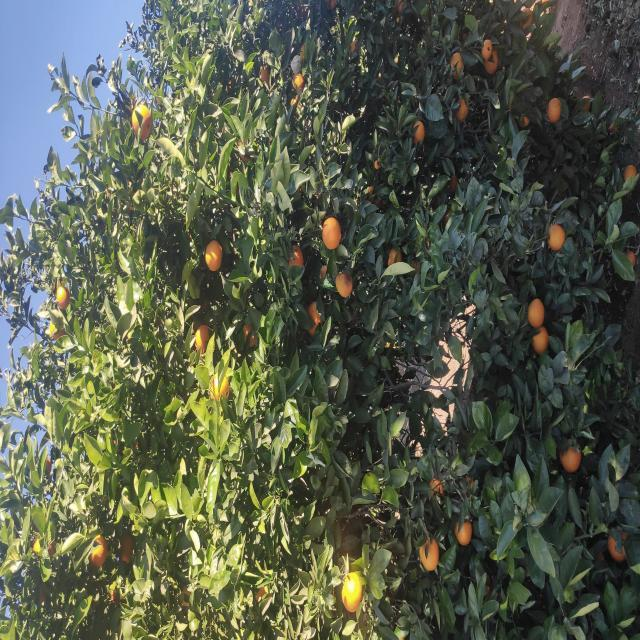Jeruk Sudah Matang: (28, 342, 69, 362), (80, 606, 112, 628), (501, 132, 536, 152), (391, 321, 424, 342), (70, 420, 104, 440), (169, 558, 197, 582), (236, 210, 268, 230), (368, 205, 400, 223), (306, 306, 340, 322), (313, 527, 342, 545), (343, 334, 369, 354), (390, 547, 418, 565), (74, 91, 104, 107), (94, 454, 120, 472), (287, 194, 316, 210), (368, 288, 396, 304), (288, 532, 314, 548), (77, 121, 106, 134), (562, 451, 588, 464), (518, 548, 542, 562), (332, 56, 355, 70), (294, 243, 318, 256), (610, 520, 634, 533), (566, 484, 588, 498), (142, 429, 162, 444), (496, 412, 520, 424), (372, 388, 390, 403), (522, 456, 544, 468), (582, 481, 602, 494), (458, 623, 476, 637), (372, 624, 390, 637), (302, 50, 322, 61), (558, 258, 576, 270), (551, 293, 566, 304), (38, 110, 58, 118), (514, 518, 526, 530), (89, 33, 102, 41)
